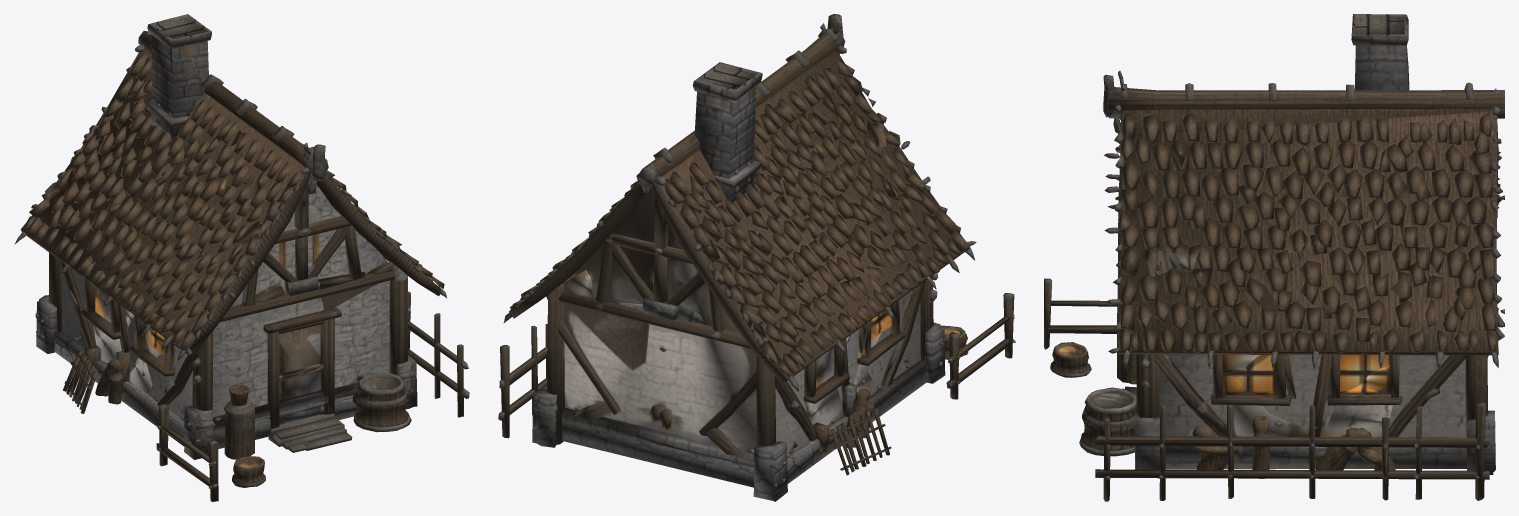
The model's file is House.glb.
The picture shows the model from 3 angles, left to right: view 1: azimuth 30°, elevation 25°; view 2: azimuth 150°, elevation 25°; view 3: azimuth 270°, elevation 25°; orthographic projection. The views are drawn at different scales.
Bounding box in the file's own units: 0.8262 × 0.9277 × 1.
Materials: 1 (1 with a texture image).
